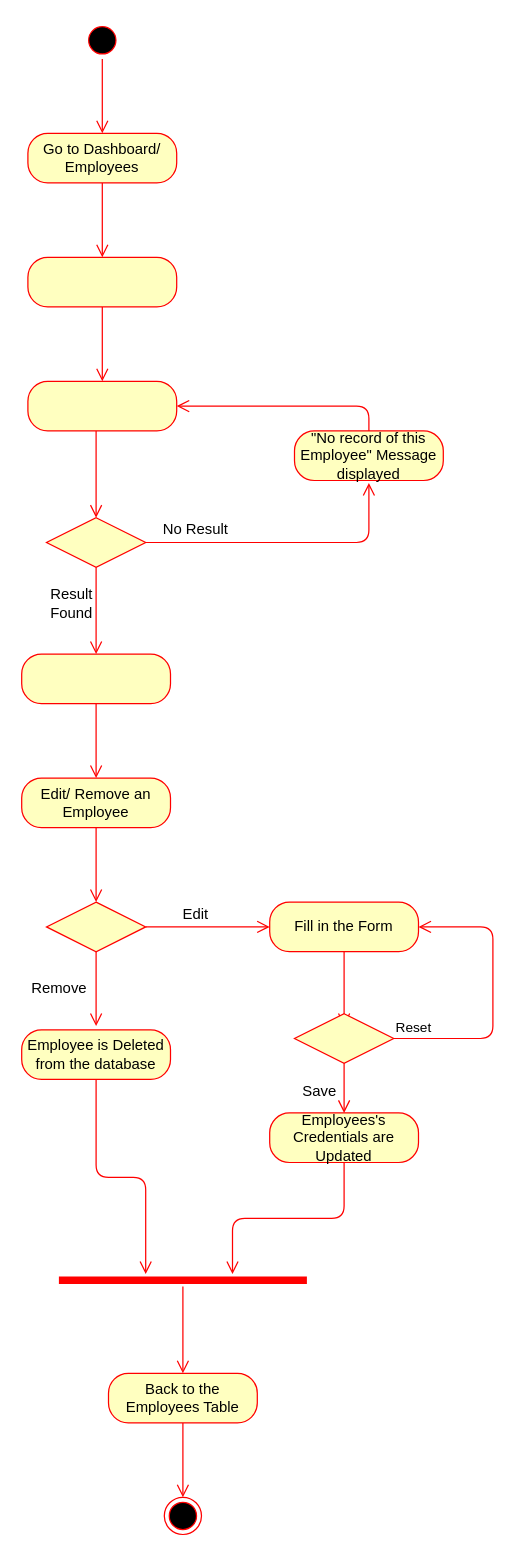
This 527x1556 diagram has some shape labels left out. Here are the shapes that lost their labels. From the top down, the centre of each, then its label:
At (x=102, y=281): "Table of Employees is shown".
At (x=102, y=405): "Employee Name Search".
At (x=95, y=678): "Result Table is Displayed".
